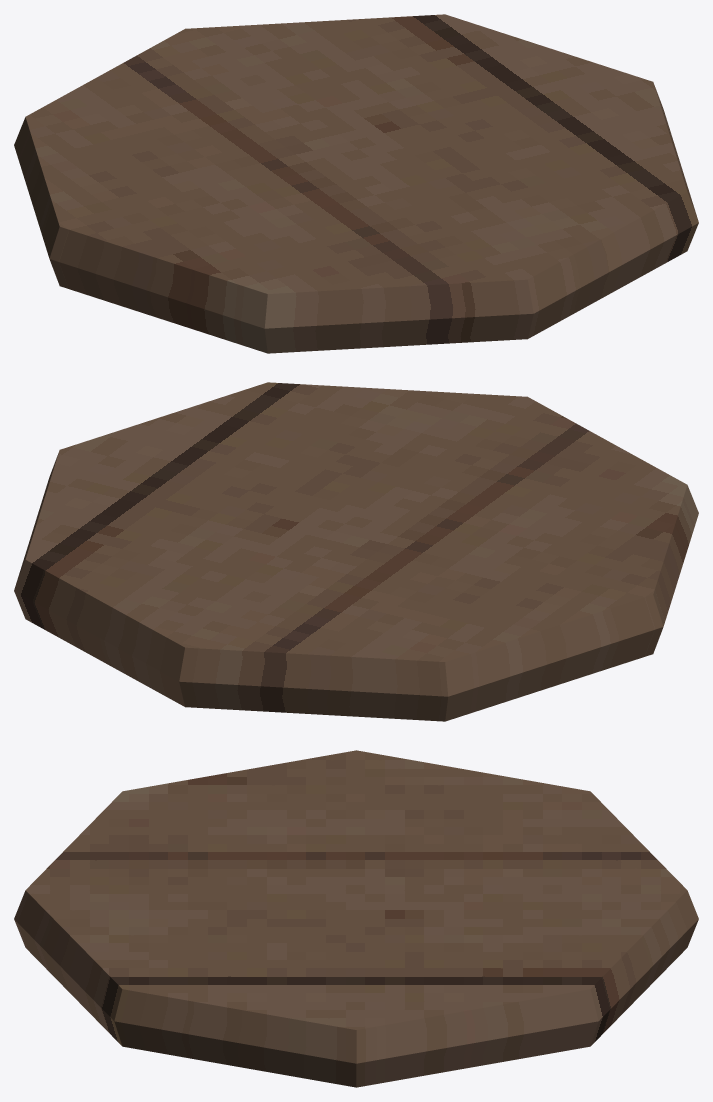
File: barrel_lid_small.glb
The picture shows the model from 3 angles, top to bottom: view 1: azimuth 30°, elevation 25°; view 2: azimuth 150°, elevation 25°; view 3: azimuth 270°, elevation 25°; orthographic projection. The views are drawn at different scales.
Visible parts, largest first — view 1: barrel_lid_small; view 2: barrel_lid_small; view 3: barrel_lid_small.
Boxes of the visible parts, x1=… form: barrel_lid_small: x1=14, y1=14, x2=698, y2=353; barrel_lid_small: x1=14, y1=382, x2=698, y2=721; barrel_lid_small: x1=14, y1=750, x2=698, y2=1087.
Size of the model in its own units: 0.5785 by 0.0536 by 0.5785.
1 material, 1 textured.
